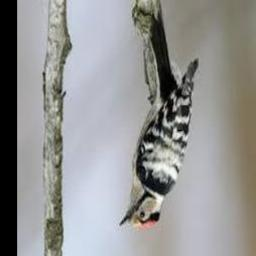Woodpecker: (119, 15, 199, 230)
